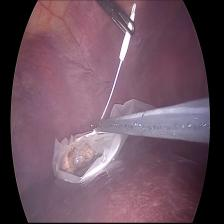Grasper: (104, 4, 138, 42), (87, 120, 104, 133)
Specimen Bag: (48, 125, 126, 186)
